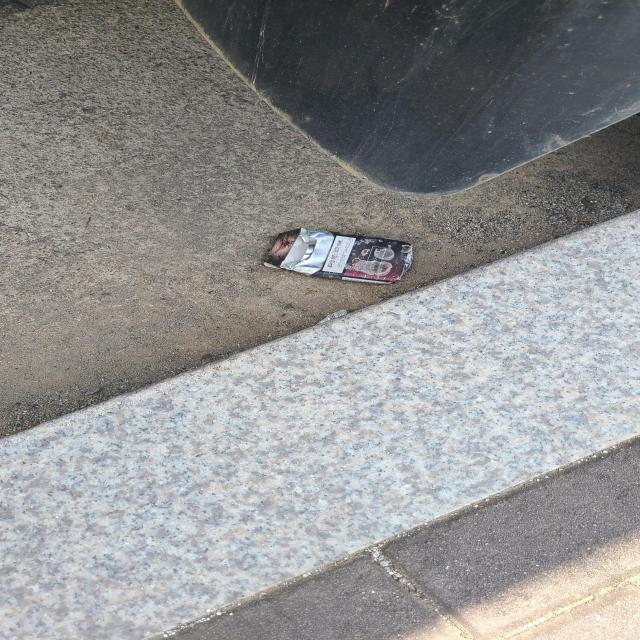litter: (257, 224, 413, 285)
